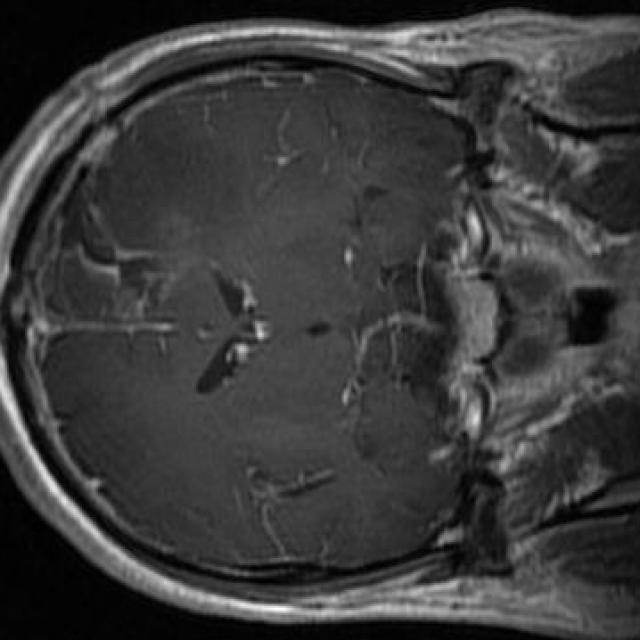glioma: (32, 162, 173, 335)
